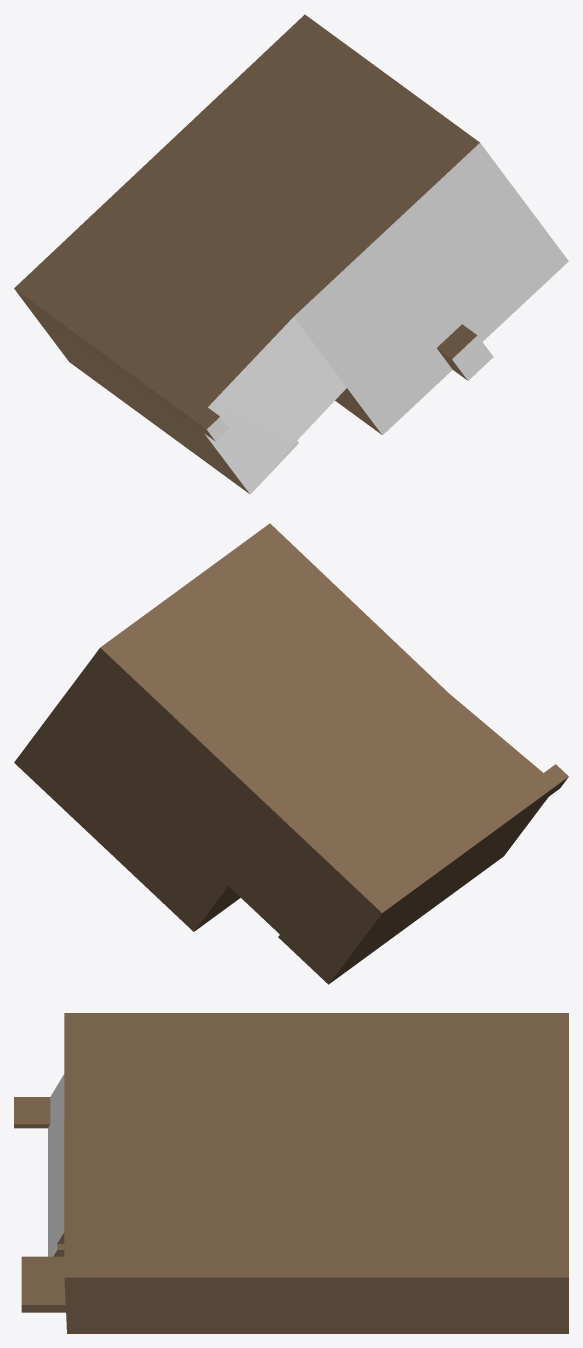
3 views of the same model, one above another, from view 1: azimuth 30°, elevation 25°; view 2: azimuth 150°, elevation 25°; view 3: azimuth 270°, elevation 25° (orthographic). The views are drawn at different scales.
Parts seen in each view (by area): view 1: City_2316453; view 2: City_2316453; view 3: City_2316453.
Boxes of the visible parts, x1,y1,x2,y2 form: City_2316453: (14,14,568,494); City_2316453: (14,523,568,984); City_2316453: (14,1013,568,1333).
Bounding box in the file's own units: 1743 × 1273 × 1532.
